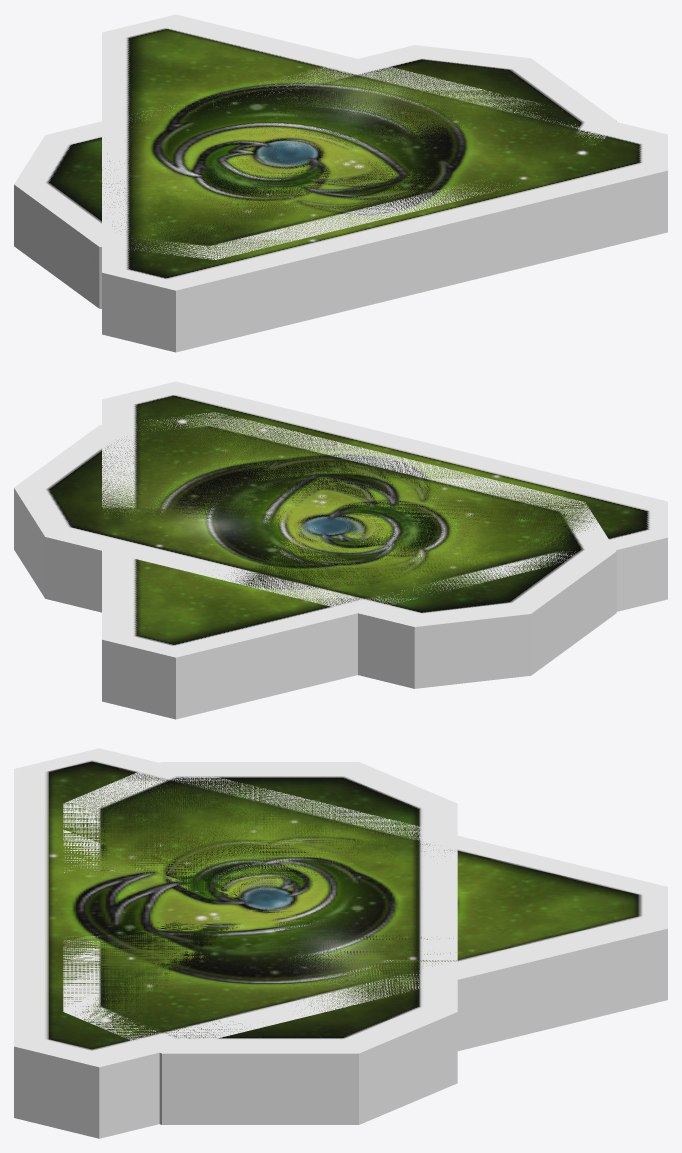
File: tokens.glb
3 views of the same model, one above another, from view 1: azimuth 30°, elevation 25°; view 2: azimuth 150°, elevation 25°; view 3: azimuth 270°, elevation 25° (orthographic). The views are drawn at different scales.
Visible parts, largest first — view 1: command, owner; view 2: command, owner; view 3: command, owner.
Part boxes in pixels (x1,y1,x2,y2): command: (102,14,667,352); owner: (14,45,616,308); command: (102,381,667,719); owner: (14,412,616,688); command: (14,748,667,1138); owner: (63,762,457,1124).
Size of the model in its own units: 0.0243 by 0.00254 by 0.0211.
Materials: 1 (1 with a texture image).
